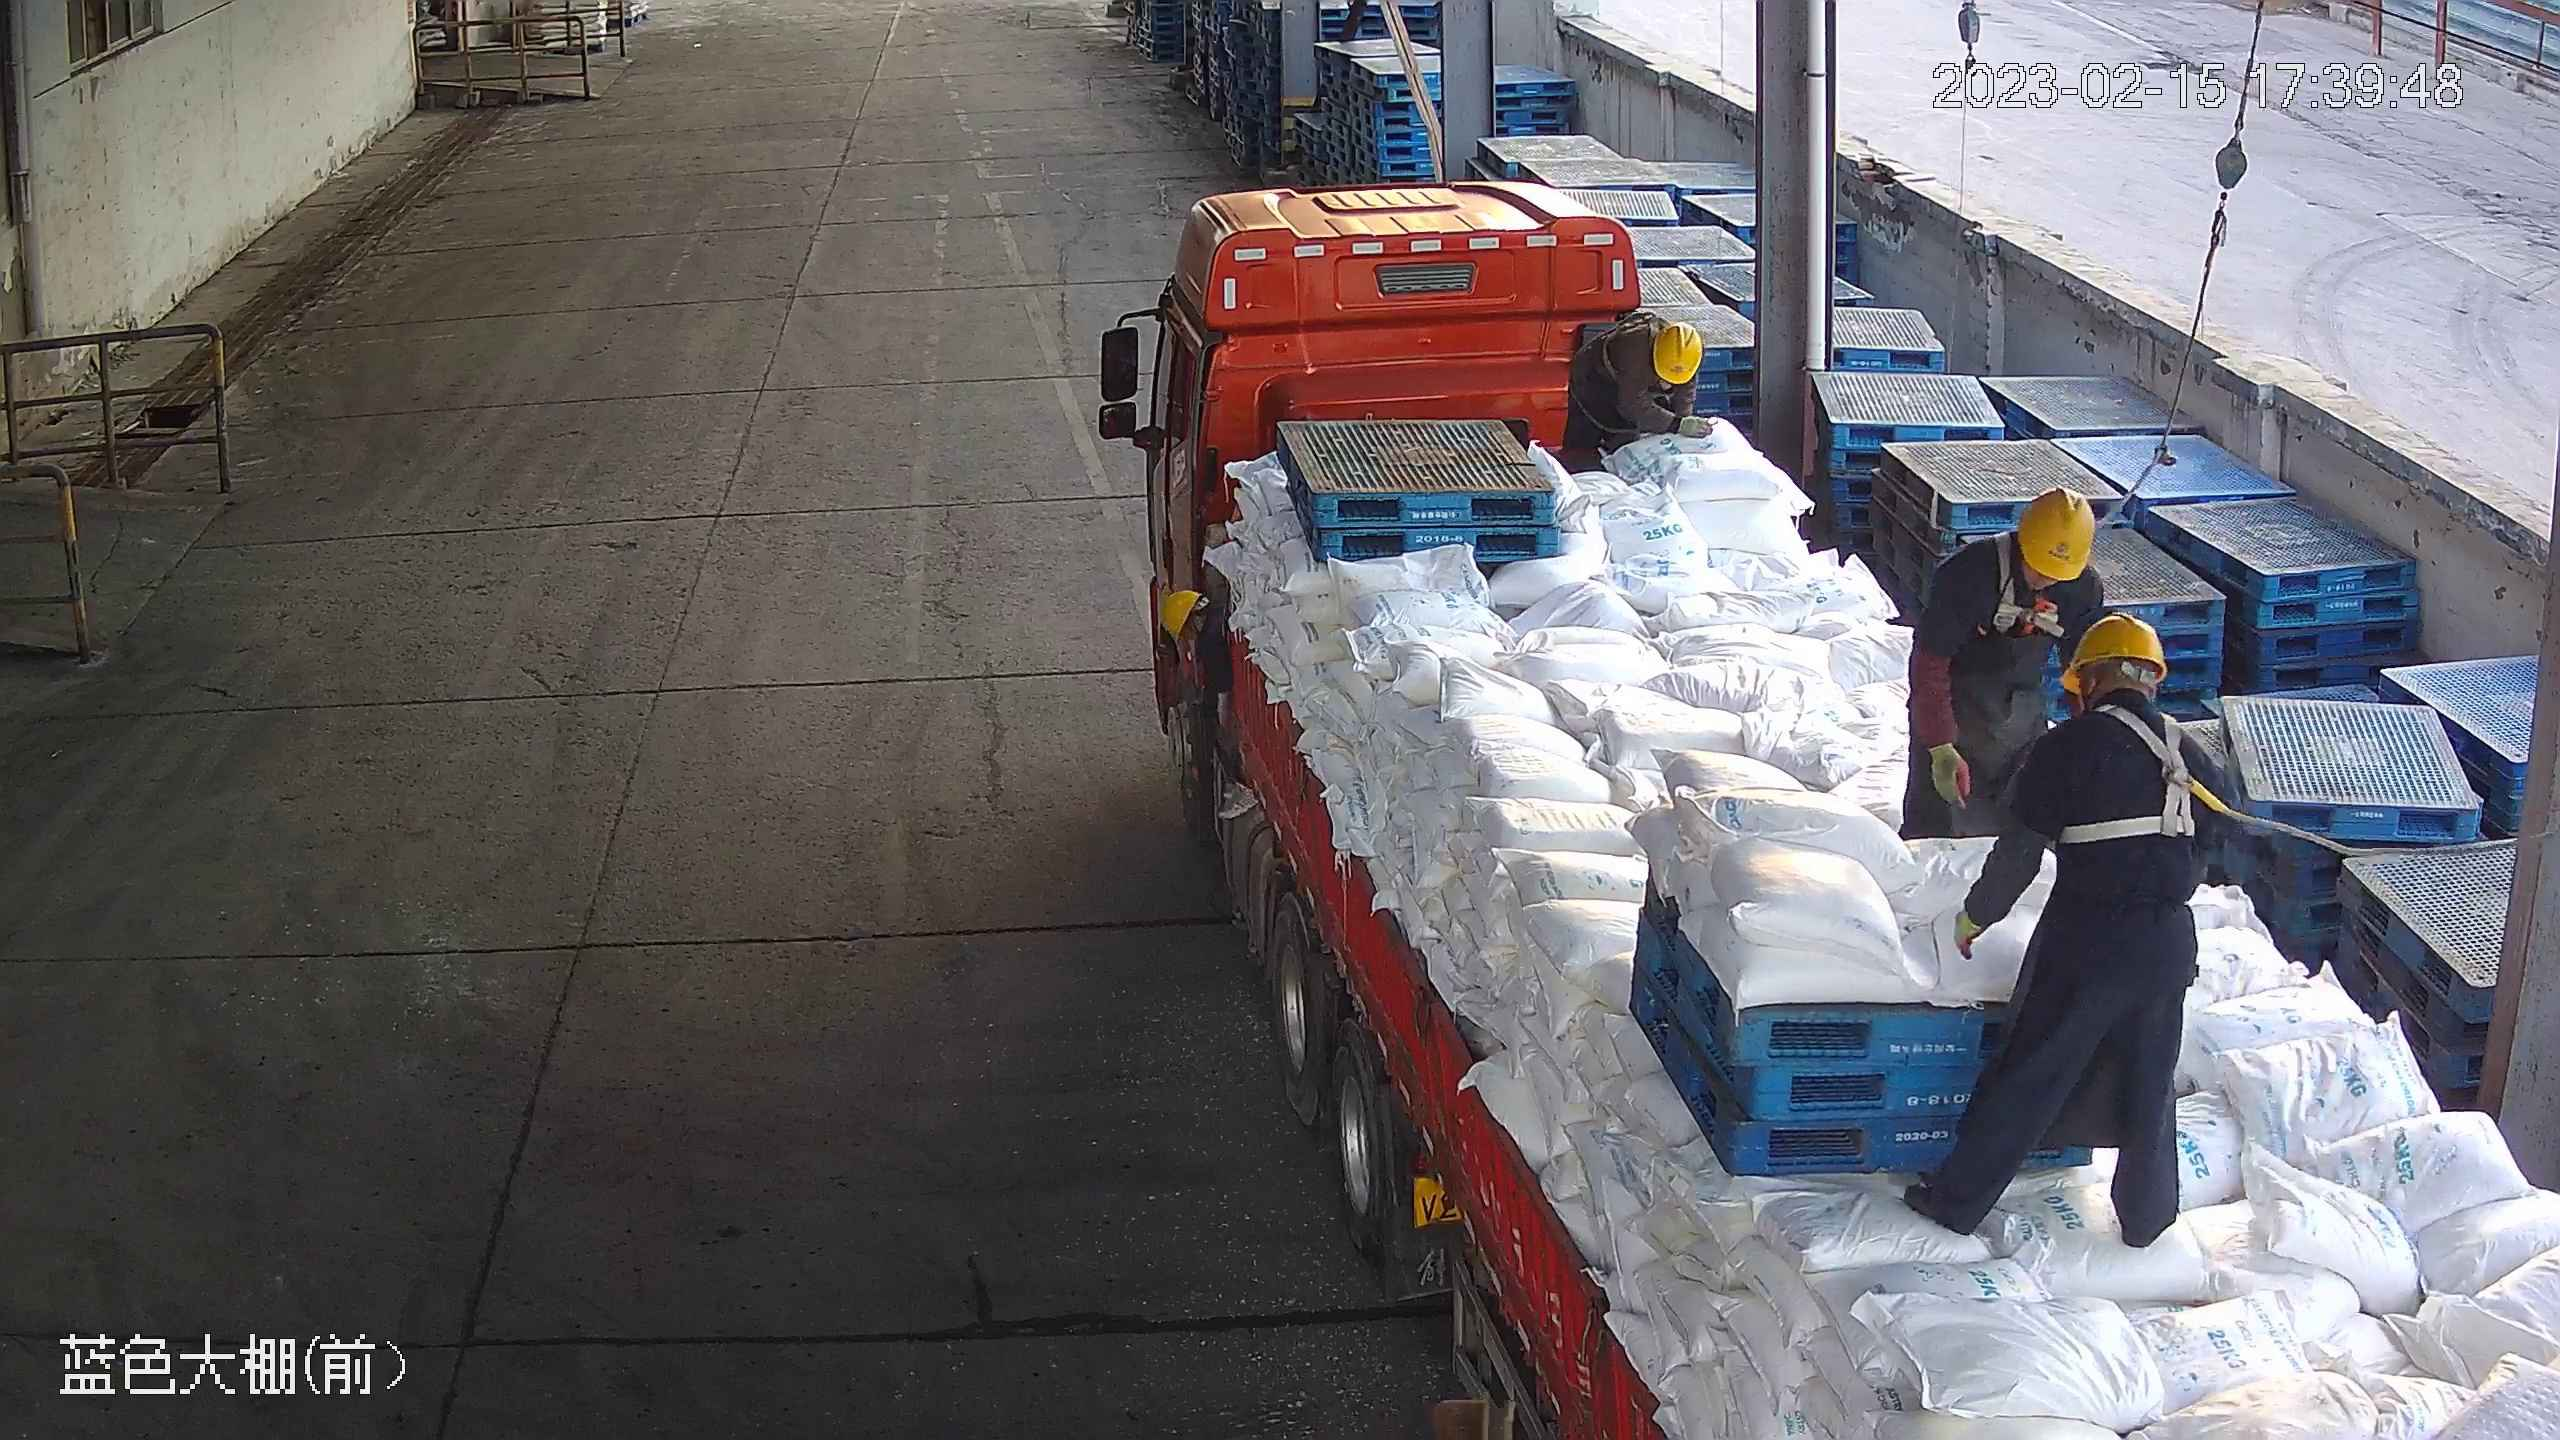belt: (2057, 702, 2222, 845), (1980, 527, 2091, 634)
head: (2020, 608, 2218, 782), (1919, 485, 2106, 604), (1607, 319, 1704, 385)
helmet: (2058, 609, 2167, 697), (2013, 485, 2096, 582), (1650, 321, 1704, 385)
people: (1904, 610, 2203, 1252), (1899, 484, 2108, 840), (1563, 319, 1718, 476)
truck: (1144, 175, 2560, 1440)
